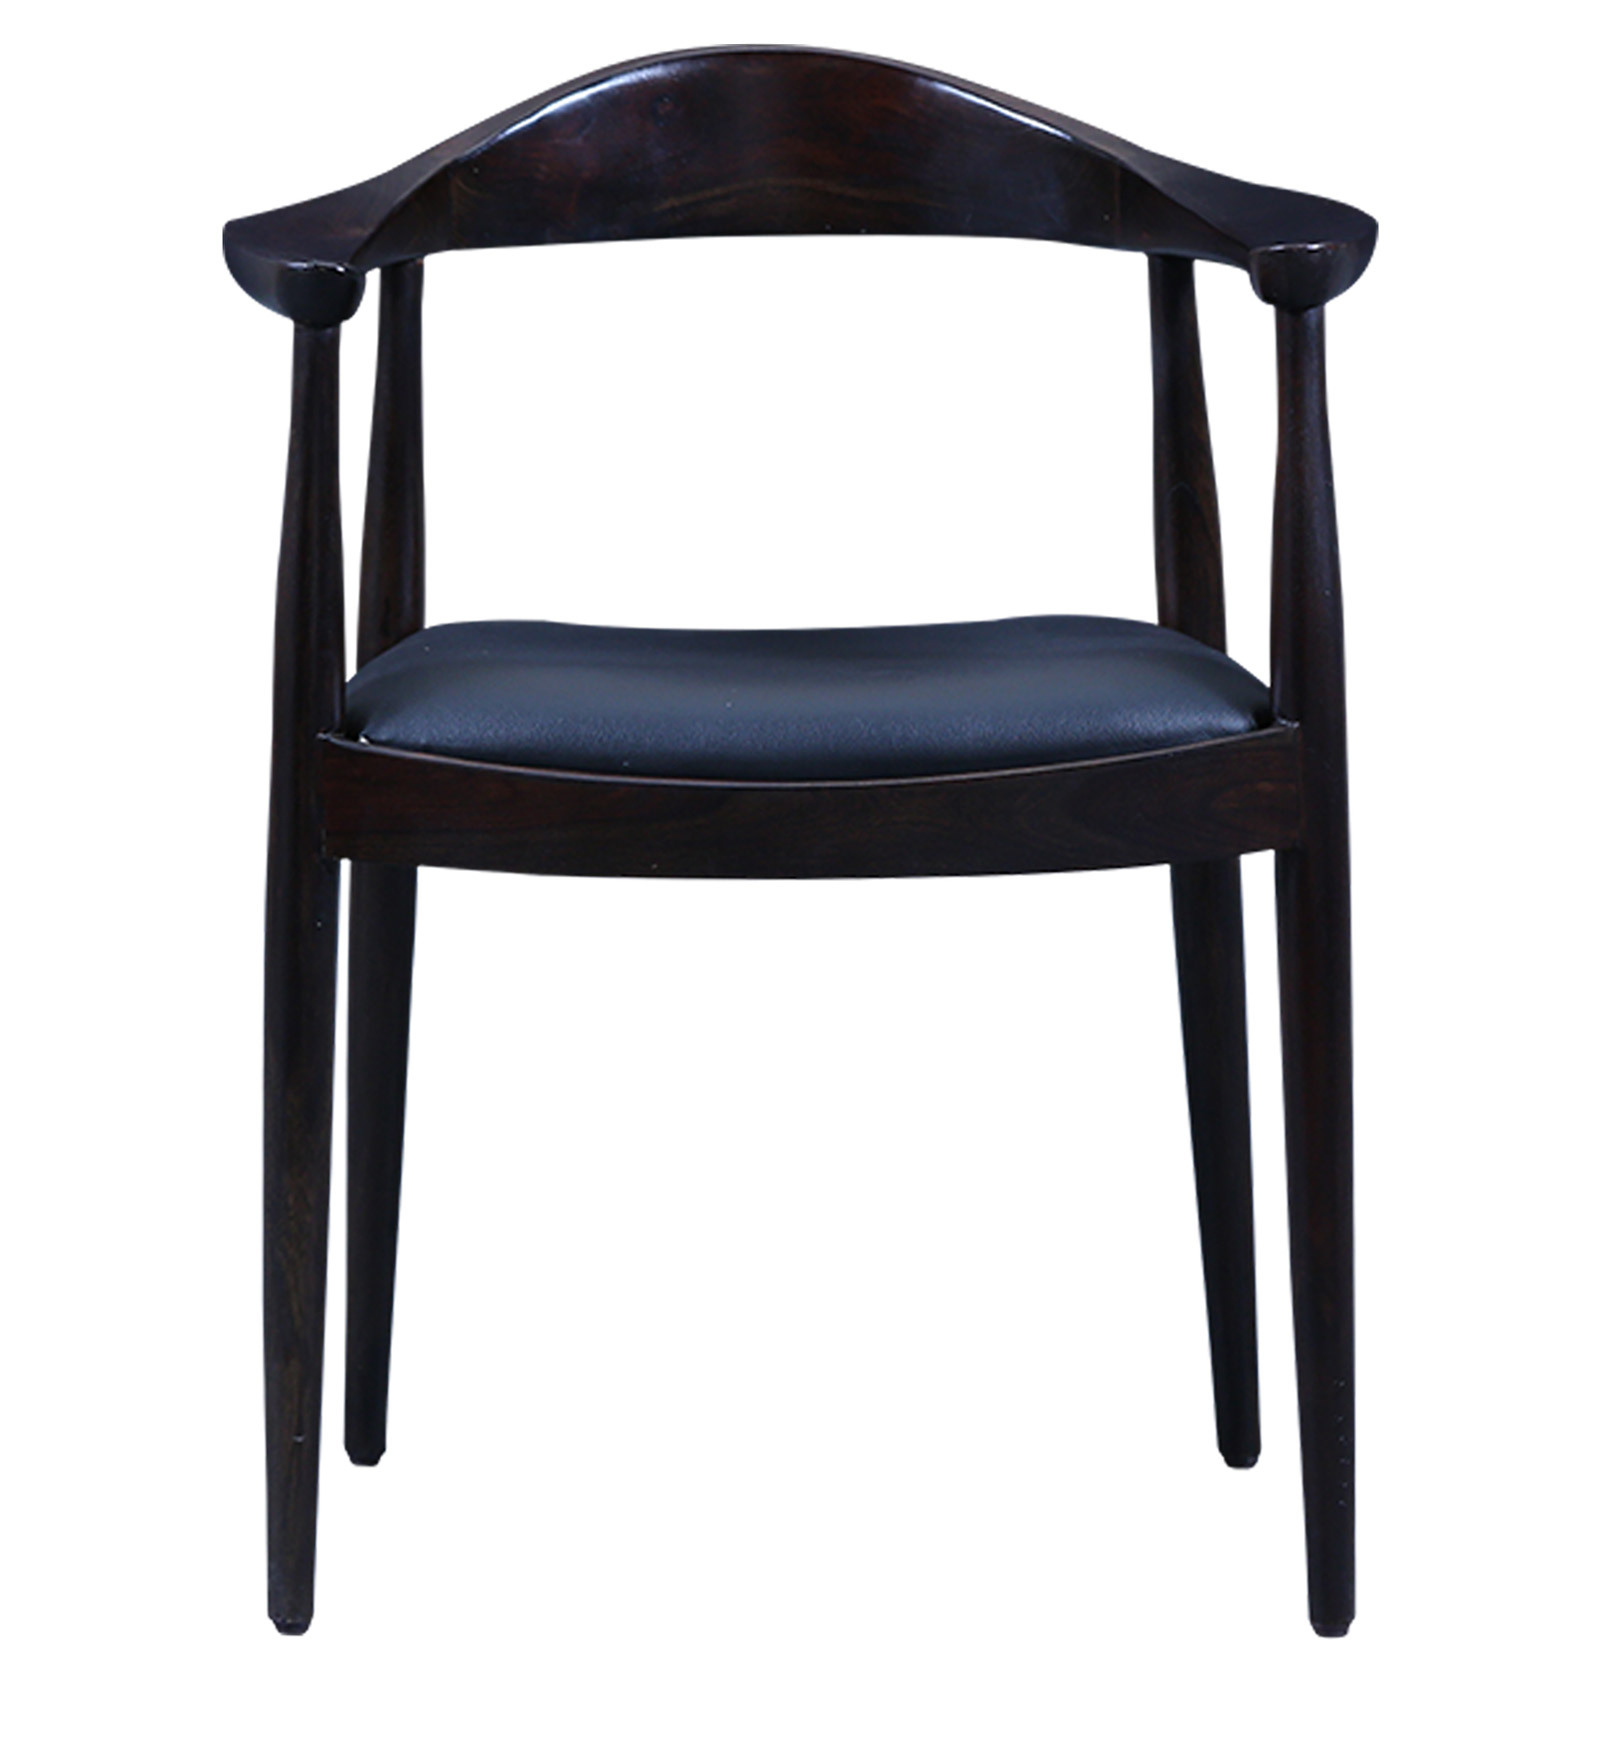Esvelt Arm Chair in Warm Chestnut Finish by Woodsworth: (158, 28, 1454, 1717)
